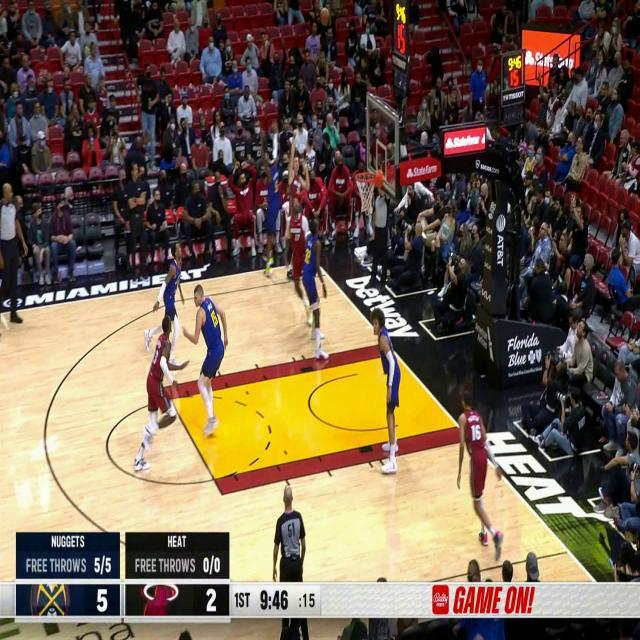rim: (320, 6, 330, 26)
